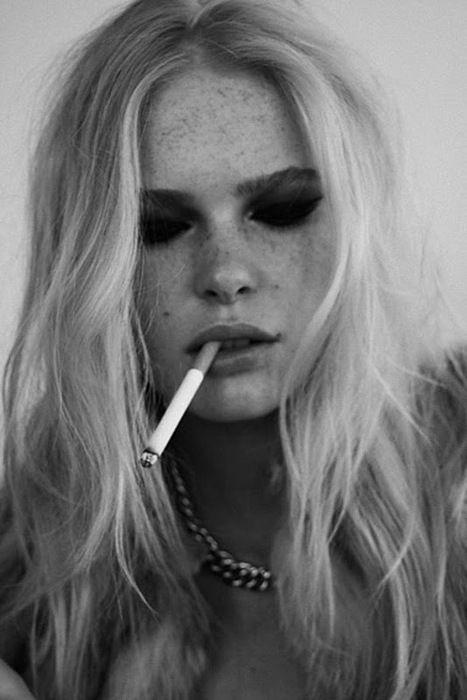cigarette: (139, 340, 223, 468)
